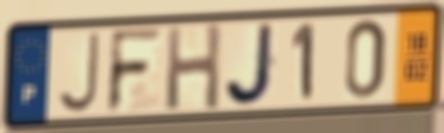0: (342, 16, 390, 104)
1: (289, 20, 315, 104)
F: (104, 25, 166, 117)
H: (164, 20, 224, 114)
J: (222, 20, 278, 110), (54, 29, 103, 116)
